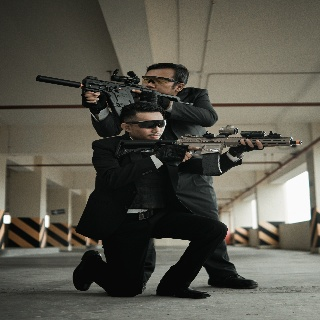rifle: (112, 124, 304, 177), (34, 70, 193, 121)
